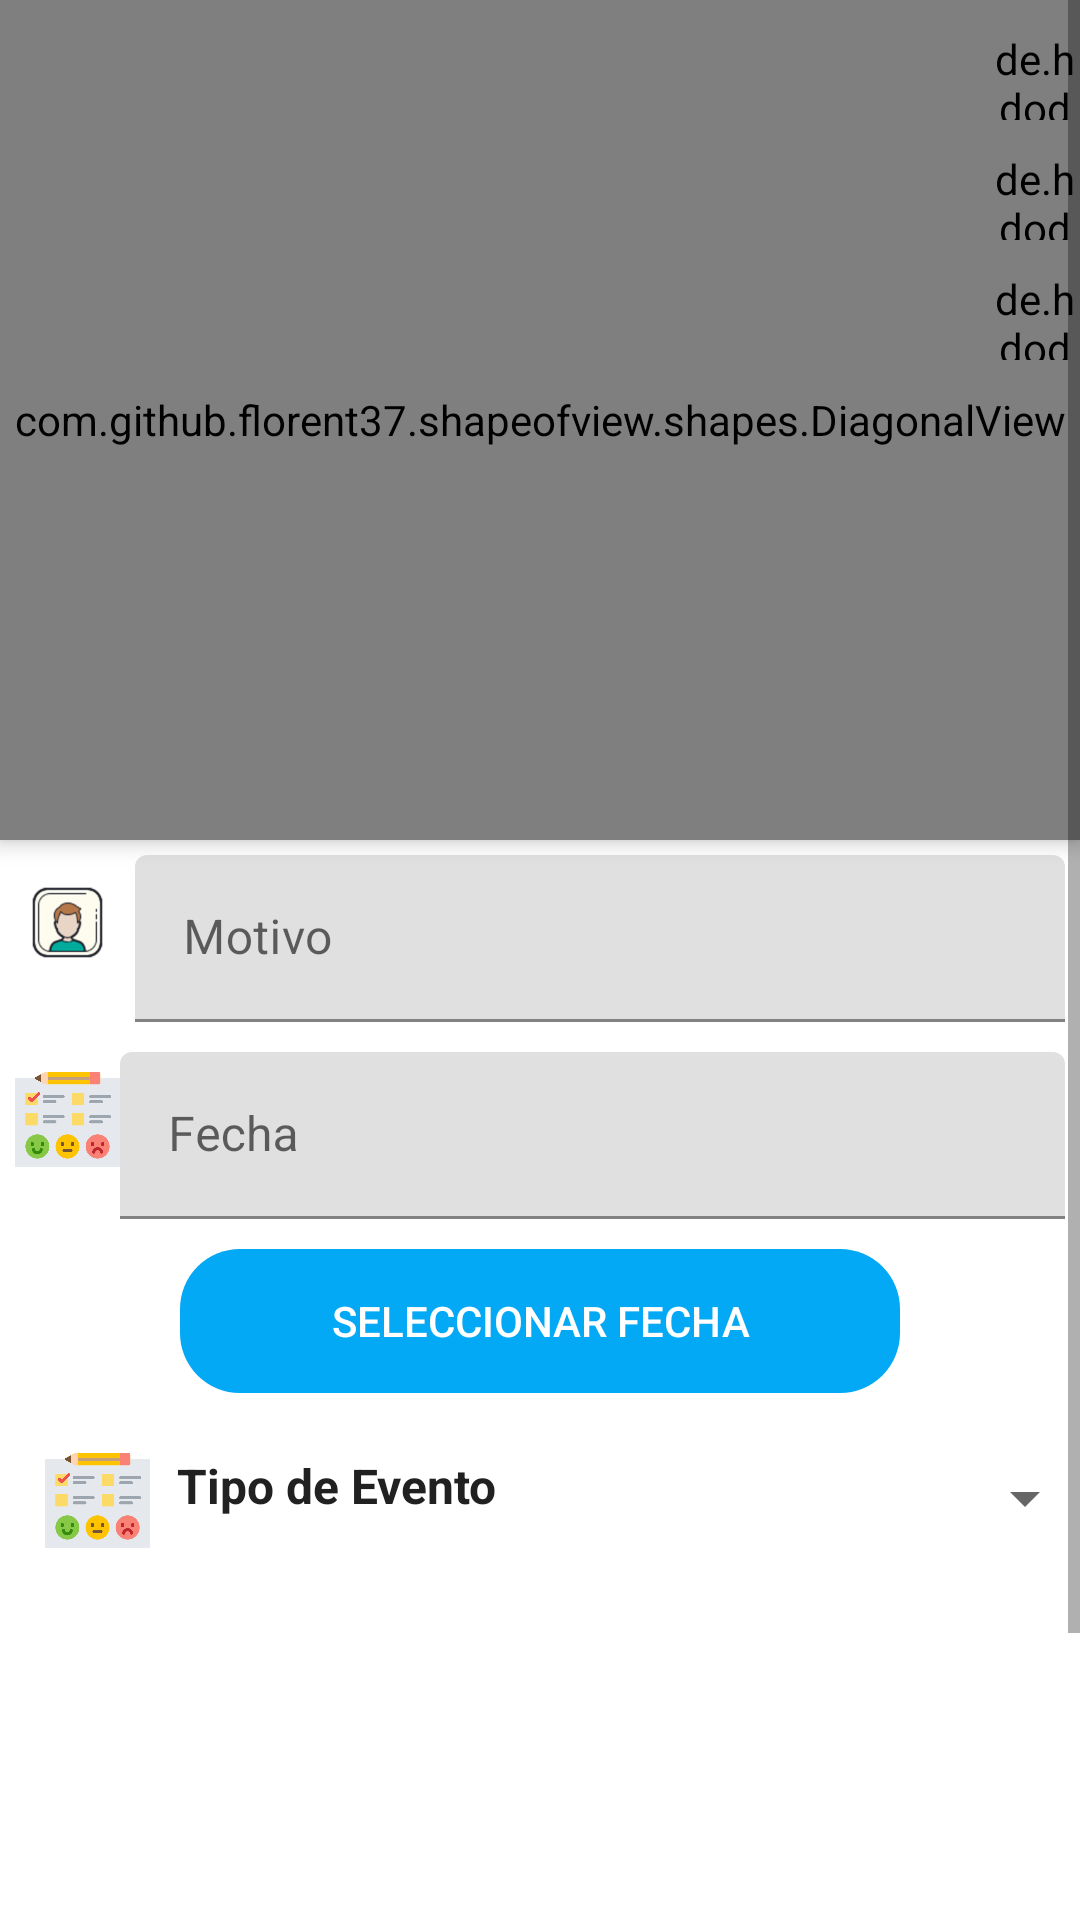

Icons on this 1080w x 1920h Android screen, each with its box as (x1, y1, x2, y2):
nombre: (32, 887, 103, 958)
satisfaccion: (15, 1072, 120, 1167), (45, 1453, 150, 1548)
